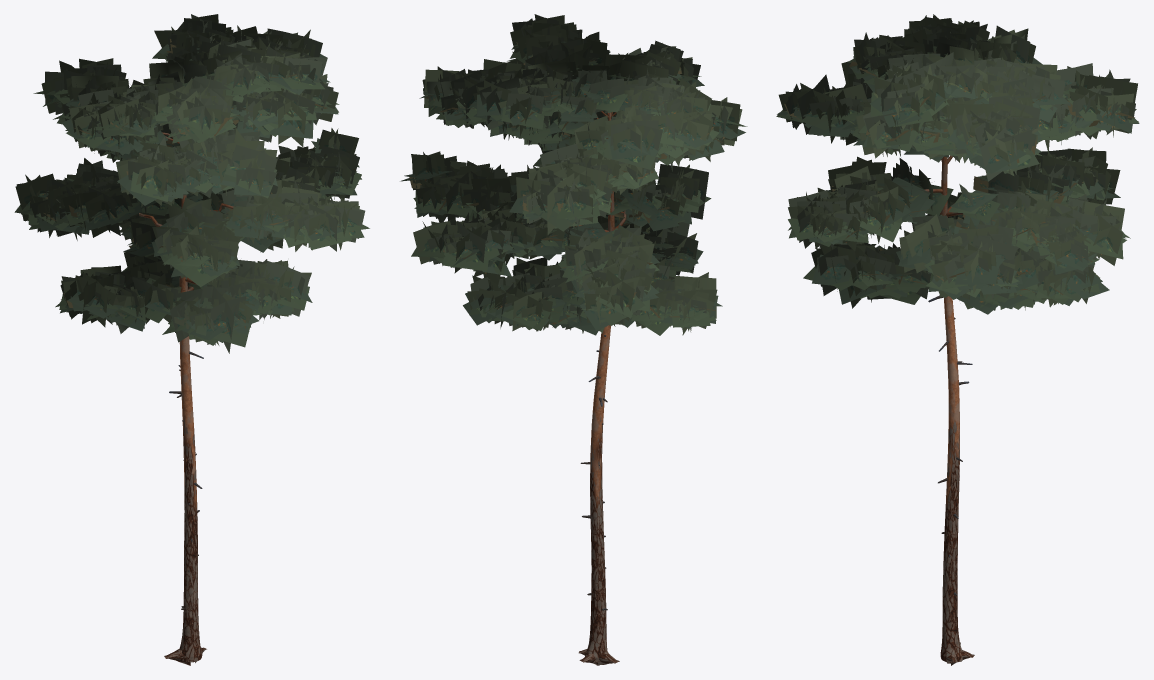
File: ScotsPine.glb
3 views of the same model, side by side, from view 1: azimuth 30°, elevation 25°; view 2: azimuth 150°, elevation 25°; view 3: azimuth 270°, elevation 25° (orthographic). The views are drawn at different scales.
Parts seen in each view (by area): view 1: needles, trunk; view 2: needles, trunk; view 3: needles, trunk.
Part boxes in pixels (left/top/right/bottom): needles: left=14, top=14, right=369, bottom=353; trunk: left=164, top=195, right=206, bottom=665; needles: left=400, top=14, right=747, bottom=335; trunk: left=578, top=112, right=619, bottom=665; needles: left=776, top=14, right=1139, bottom=314; trunk: left=940, top=156, right=974, bottom=665.
Bounding box in the file's own units: 10.86 × 20.9 × 10.97.
4 materials, 4 textured.
